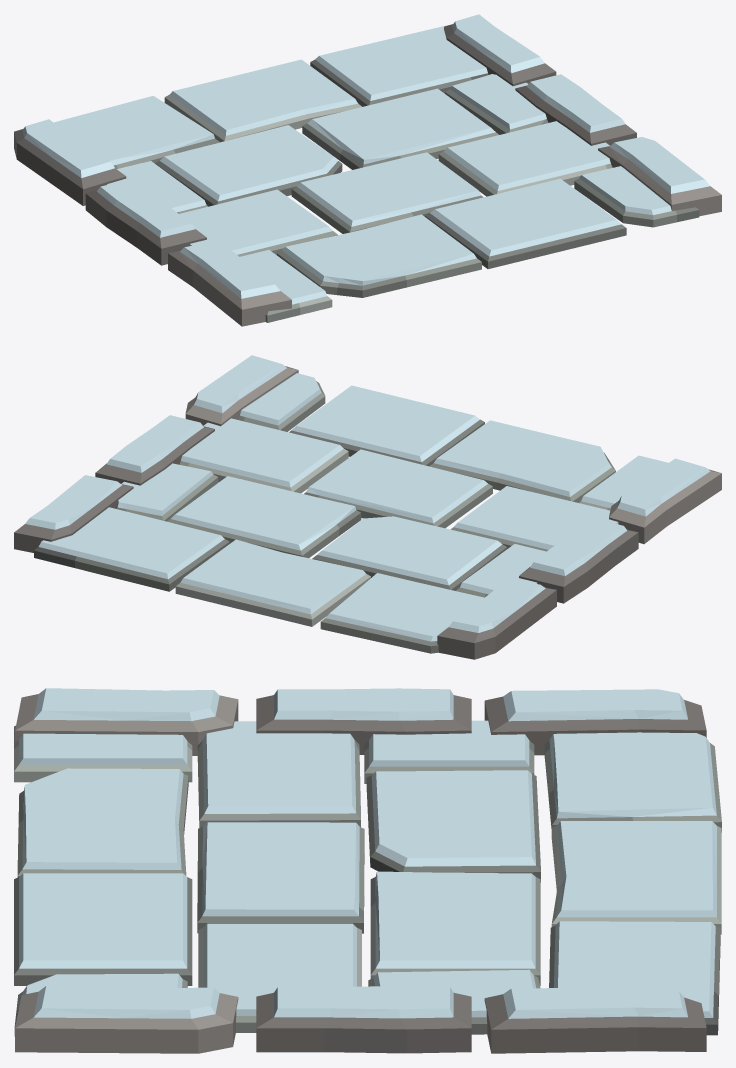
Rendered from SM_Env_Path_Tile_01_Snow.gltf.
3 renders of one model, top to bottom at view 1: azimuth 30°, elevation 25°; view 2: azimuth 150°, elevation 25°; view 3: azimuth 270°, elevation 25°, orthographic. The views are drawn at different scales.
Visible parts, largest first — view 1: SM_Env_Path_Tile_01_Snow; view 2: SM_Env_Path_Tile_01_Snow; view 3: SM_Env_Path_Tile_01_Snow.
Part boxes in pixels (x1=…): SM_Env_Path_Tile_01_Snow: x1=14, y1=14, x2=721, y2=326; SM_Env_Path_Tile_01_Snow: x1=14, y1=355, x2=721, y2=659; SM_Env_Path_Tile_01_Snow: x1=14, y1=688, x2=721, y2=1053.
Bounding box in the file's own units: 3.29 × 0.1788 × 2.97.
1 material, 1 textured.
